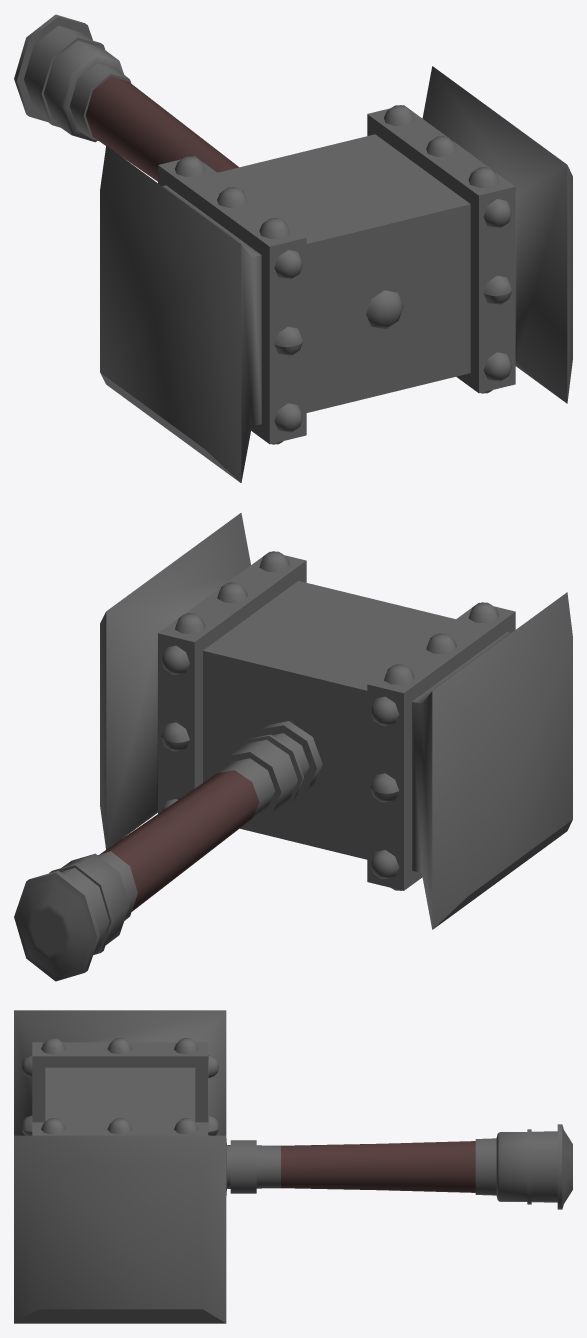
File: Mjolnir.fbx
3 views of the same model, one above another, from view 1: azimuth 30°, elevation 25°; view 2: azimuth 150°, elevation 25°; view 3: azimuth 270°, elevation 25° (orthographic). The views are drawn at different scales.
Parts seen in each view (by area): view 1: Mjolnir_Handle; view 2: Mjolnir_Handle; view 3: Mjolnir_Handle.
Part boxes in pixels (box(x1,y1,x2,y2)): Mjolnir_Handle: box(14, 14, 572, 482); Mjolnir_Handle: box(14, 513, 572, 981); Mjolnir_Handle: box(14, 1010, 572, 1323).
Bounding box in the file's own units: 1.23 × 0.765 × 2.06.
